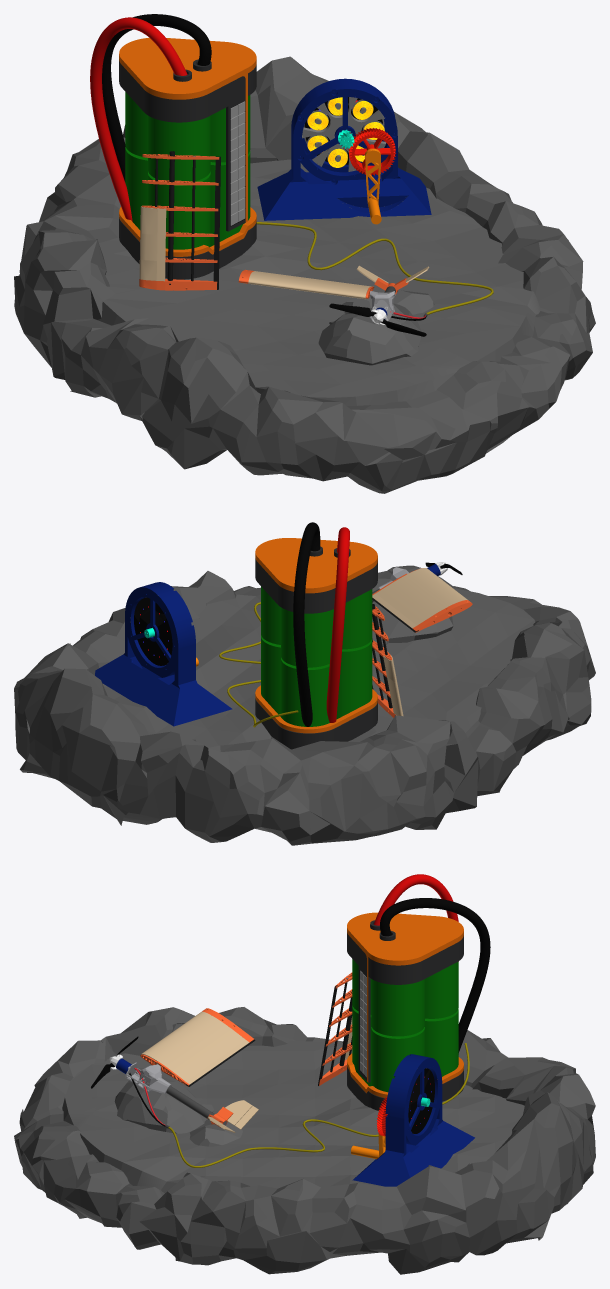
The model's file is droneIslandCOMPLETE.glb.
3 views of the same model, one above another, from view 1: azimuth 30°, elevation 25°; view 2: azimuth 150°, elevation 25°; view 3: azimuth 270°, elevation 25° (orthographic). The views are drawn at different scales.
Visible parts, largest first — view 1: Island_RockWall, Island_Top_Surface, Battery_Frame, Dynamo_Frame, Battery_Capacitors, Wing_Wing, Mk4_Frame, Island_UpperWall, Dynamo_StatorFrame, Dynamo_Coil, Dynamo_BigGear, Mk_MainWire (+2 smaller); view 2: Island_RockWall, Island_Top_Surface, Battery_Frame, Battery_Capacitors, Dynamo_Frame, Mk4_Frame, Wing_Wing, Dynamo_MagnetPlate, Mk_MainWire; view 3: Island_RockWall, Island_Top_Surface, Battery_Frame, Battery_Capacitors, Dynamo_Frame, Mk4_Frame, Wing_Wing, Island_UpperWall, Mk_MainWire, Dynamo_MagnetPlate.
Part boxes in pixels (box(x1,y1,x2,y2)): Island_RockWall: box(14, 56, 595, 493); Island_Top_Surface: box(99, 159, 532, 396); Battery_Frame: box(90, 14, 256, 279); Dynamo_Frame: box(257, 78, 431, 220); Battery_Capacitors: box(125, 92, 250, 249); Wing_Wing: box(139, 151, 220, 290); Mk4_Frame: box(238, 265, 429, 321); Island_UpperWall: box(97, 291, 540, 405); Dynamo_StatorFrame: box(302, 97, 385, 171); Dynamo_Coil: box(307, 97, 384, 167); Dynamo_BigGear: box(348, 128, 395, 175); Mk_MainWire: box(256, 222, 493, 314); Island_RockWall: box(14, 565, 595, 845); Island_Top_Surface: box(103, 578, 535, 747); Battery_Frame: box(255, 522, 377, 749); Battery_Capacitors: box(261, 586, 372, 726); Dynamo_Frame: box(95, 582, 232, 726); Mk4_Frame: box(372, 567, 472, 632); Wing_Wing: box(372, 604, 403, 717); Dynamo_MagnetPlate: box(134, 597, 172, 665); Mk_MainWire: box(219, 602, 298, 727); Island_RockWall: box(14, 1007, 595, 1274); Island_Top_Surface: box(65, 1041, 524, 1188); Battery_Frame: box(347, 874, 490, 1110); Battery_Capacitors: box(352, 959, 458, 1092); Dynamo_Frame: box(352, 1054, 474, 1186); Mk4_Frame: box(125, 1008, 258, 1132); Wing_Wing: box(318, 972, 352, 1085); Island_UpperWall: box(62, 1065, 176, 1192); Mk_MainWire: box(168, 1043, 469, 1167); Dynamo_MagnetPlate: box(408, 1068, 434, 1133).
Size of the model in its own units: 8.81 by 5.64 by 10.89.
